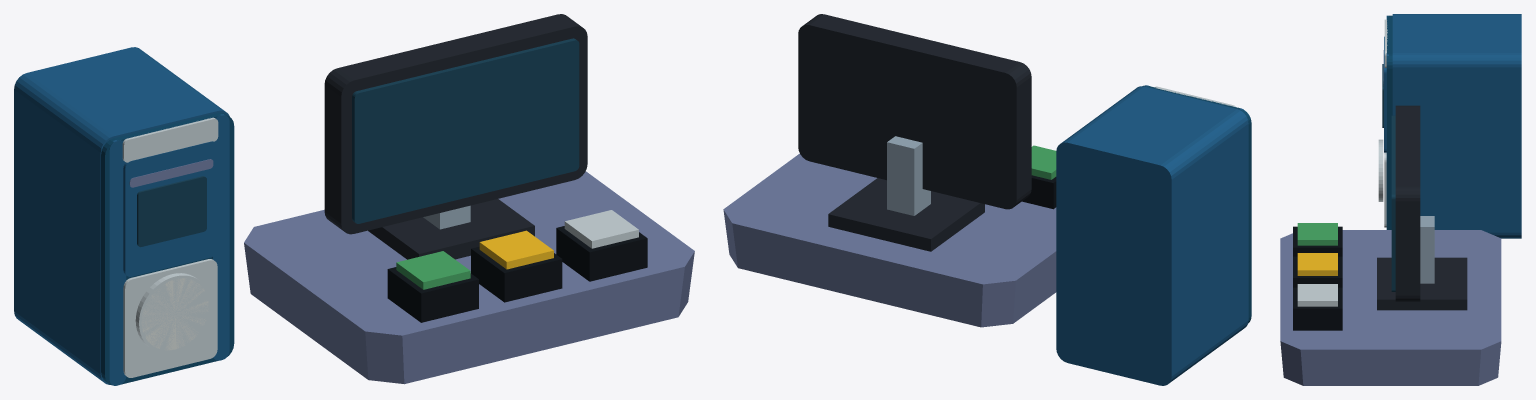
File: fluigent-flow-ez.glb
The picture shows the model from 3 angles, left to right: view 1: azimuth 30°, elevation 25°; view 2: azimuth 150°, elevation 25°; view 3: azimuth 270°, elevation 25°; orthographic projection. The views are drawn at different scales.
Parts seen in each view (by area): view 1: desk, drawing_display, body, inactive_inset, side_trim, lower_inset, select_roomy, select_tangent, select_narrow, fixed_front_cap, upper_inset; view 2: body, desk, drawing_display, select_roomy; view 3: desk, body, drawing_display, select_tangent, select_narrow, select_roomy, inactive_inset, fixed_front_cap, lower_inset.
Boxes of the visible parts, x1,y1,x2,y2 form: desk: [244, 171, 694, 384]; drawing_display: [324, 14, 587, 234]; body: [14, 47, 234, 385]; inactive_inset: [123, 141, 217, 276]; side_trim: [109, 114, 229, 385]; lower_inset: [123, 259, 217, 377]; select_roomy: [387, 251, 478, 322]; select_tangent: [556, 210, 647, 281]; select_narrow: [471, 230, 562, 302]; fixed_front_cap: [135, 273, 211, 353]; upper_inset: [122, 117, 218, 162]; body: [1056, 85, 1251, 385]; desk: [723, 136, 1056, 327]; drawing_display: [798, 14, 1031, 209]; select_roomy: [1022, 145, 1056, 209]; desk: [1280, 216, 1501, 385]; body: [1387, 14, 1521, 238]; drawing_display: [1391, 105, 1420, 301]; select_tangent: [1293, 284, 1342, 330]; select_narrow: [1293, 253, 1342, 287]; select_roomy: [1293, 223, 1342, 256]; inactive_inset: [1382, 36, 1386, 152]; fixed_front_cap: [1378, 139, 1383, 201]; lower_inset: [1384, 152, 1386, 227].
Size of the model in its own units: 0.2939 by 0.131 by 0.155.
